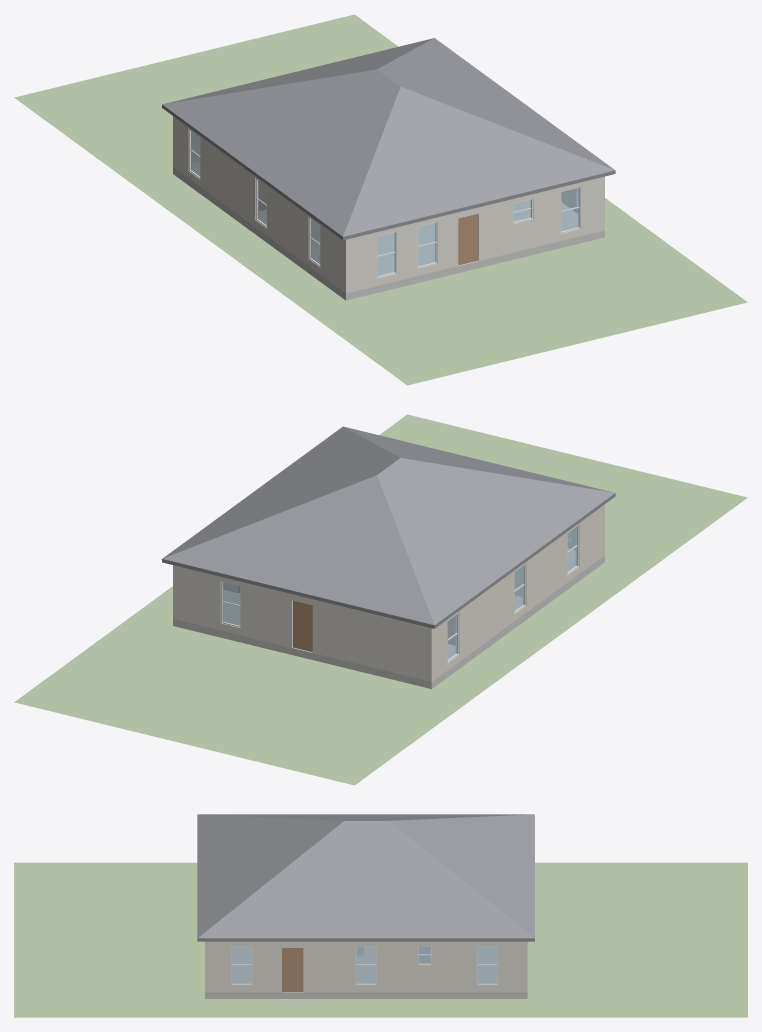
3 renders of one model, top to bottom at view 1: azimuth 30°, elevation 25°; view 2: azimuth 150°, elevation 25°; view 3: azimuth 270°, elevation 25°, orthographic. The views are drawn at different scales.
Parts seen in each view (by area): view 1: Lot, Hip roof, Wall ext-front, Wall ext-left, Floor First Floor, Door D01, Window N05, Window N01, Window N02; view 2: Lot, Hip roof, Wall ext-back, Wall ext-left, Floor First Floor, Door D03, Window N10; view 3: Lot, Hip roof, Wall ext-right, Floor First Floor, Door D02, Window N06, Window N11, Window N09.
Part boxes in pixels (box(x1,y1,x2,y2)): Lot: box(14, 14, 747, 385); Hip roof: box(162, 38, 615, 240); Wall ext-front: box(344, 176, 604, 293); Wall ext-left: box(175, 117, 343, 291); Floor First Floor: box(173, 162, 604, 300); Door D01: box(458, 214, 477, 265); Window N05: box(561, 187, 578, 231); Window N01: box(377, 232, 394, 276); Window N02: box(418, 222, 435, 266); Lot: box(14, 414, 747, 785); Hip roof: box(162, 426, 615, 628); Wall ext-back: box(173, 565, 433, 681); Wall ext-left: box(433, 506, 602, 680); Floor First Floor: box(173, 548, 604, 688); Door D03: box(293, 600, 312, 652); Window N10: box(222, 582, 240, 625); Lot: box(14, 862, 747, 1017); Hip roof: box(197, 814, 534, 941); Wall ext-right: box(208, 941, 523, 992); Floor First Floor: box(205, 947, 527, 998); Door D02: box(282, 948, 303, 991); Window N06: box(231, 946, 251, 983); Window N11: box(477, 946, 497, 983); Window N09: box(356, 946, 375, 983).
Bounding box in the file's own units: 15.24 × 5.46 × 30.48.
